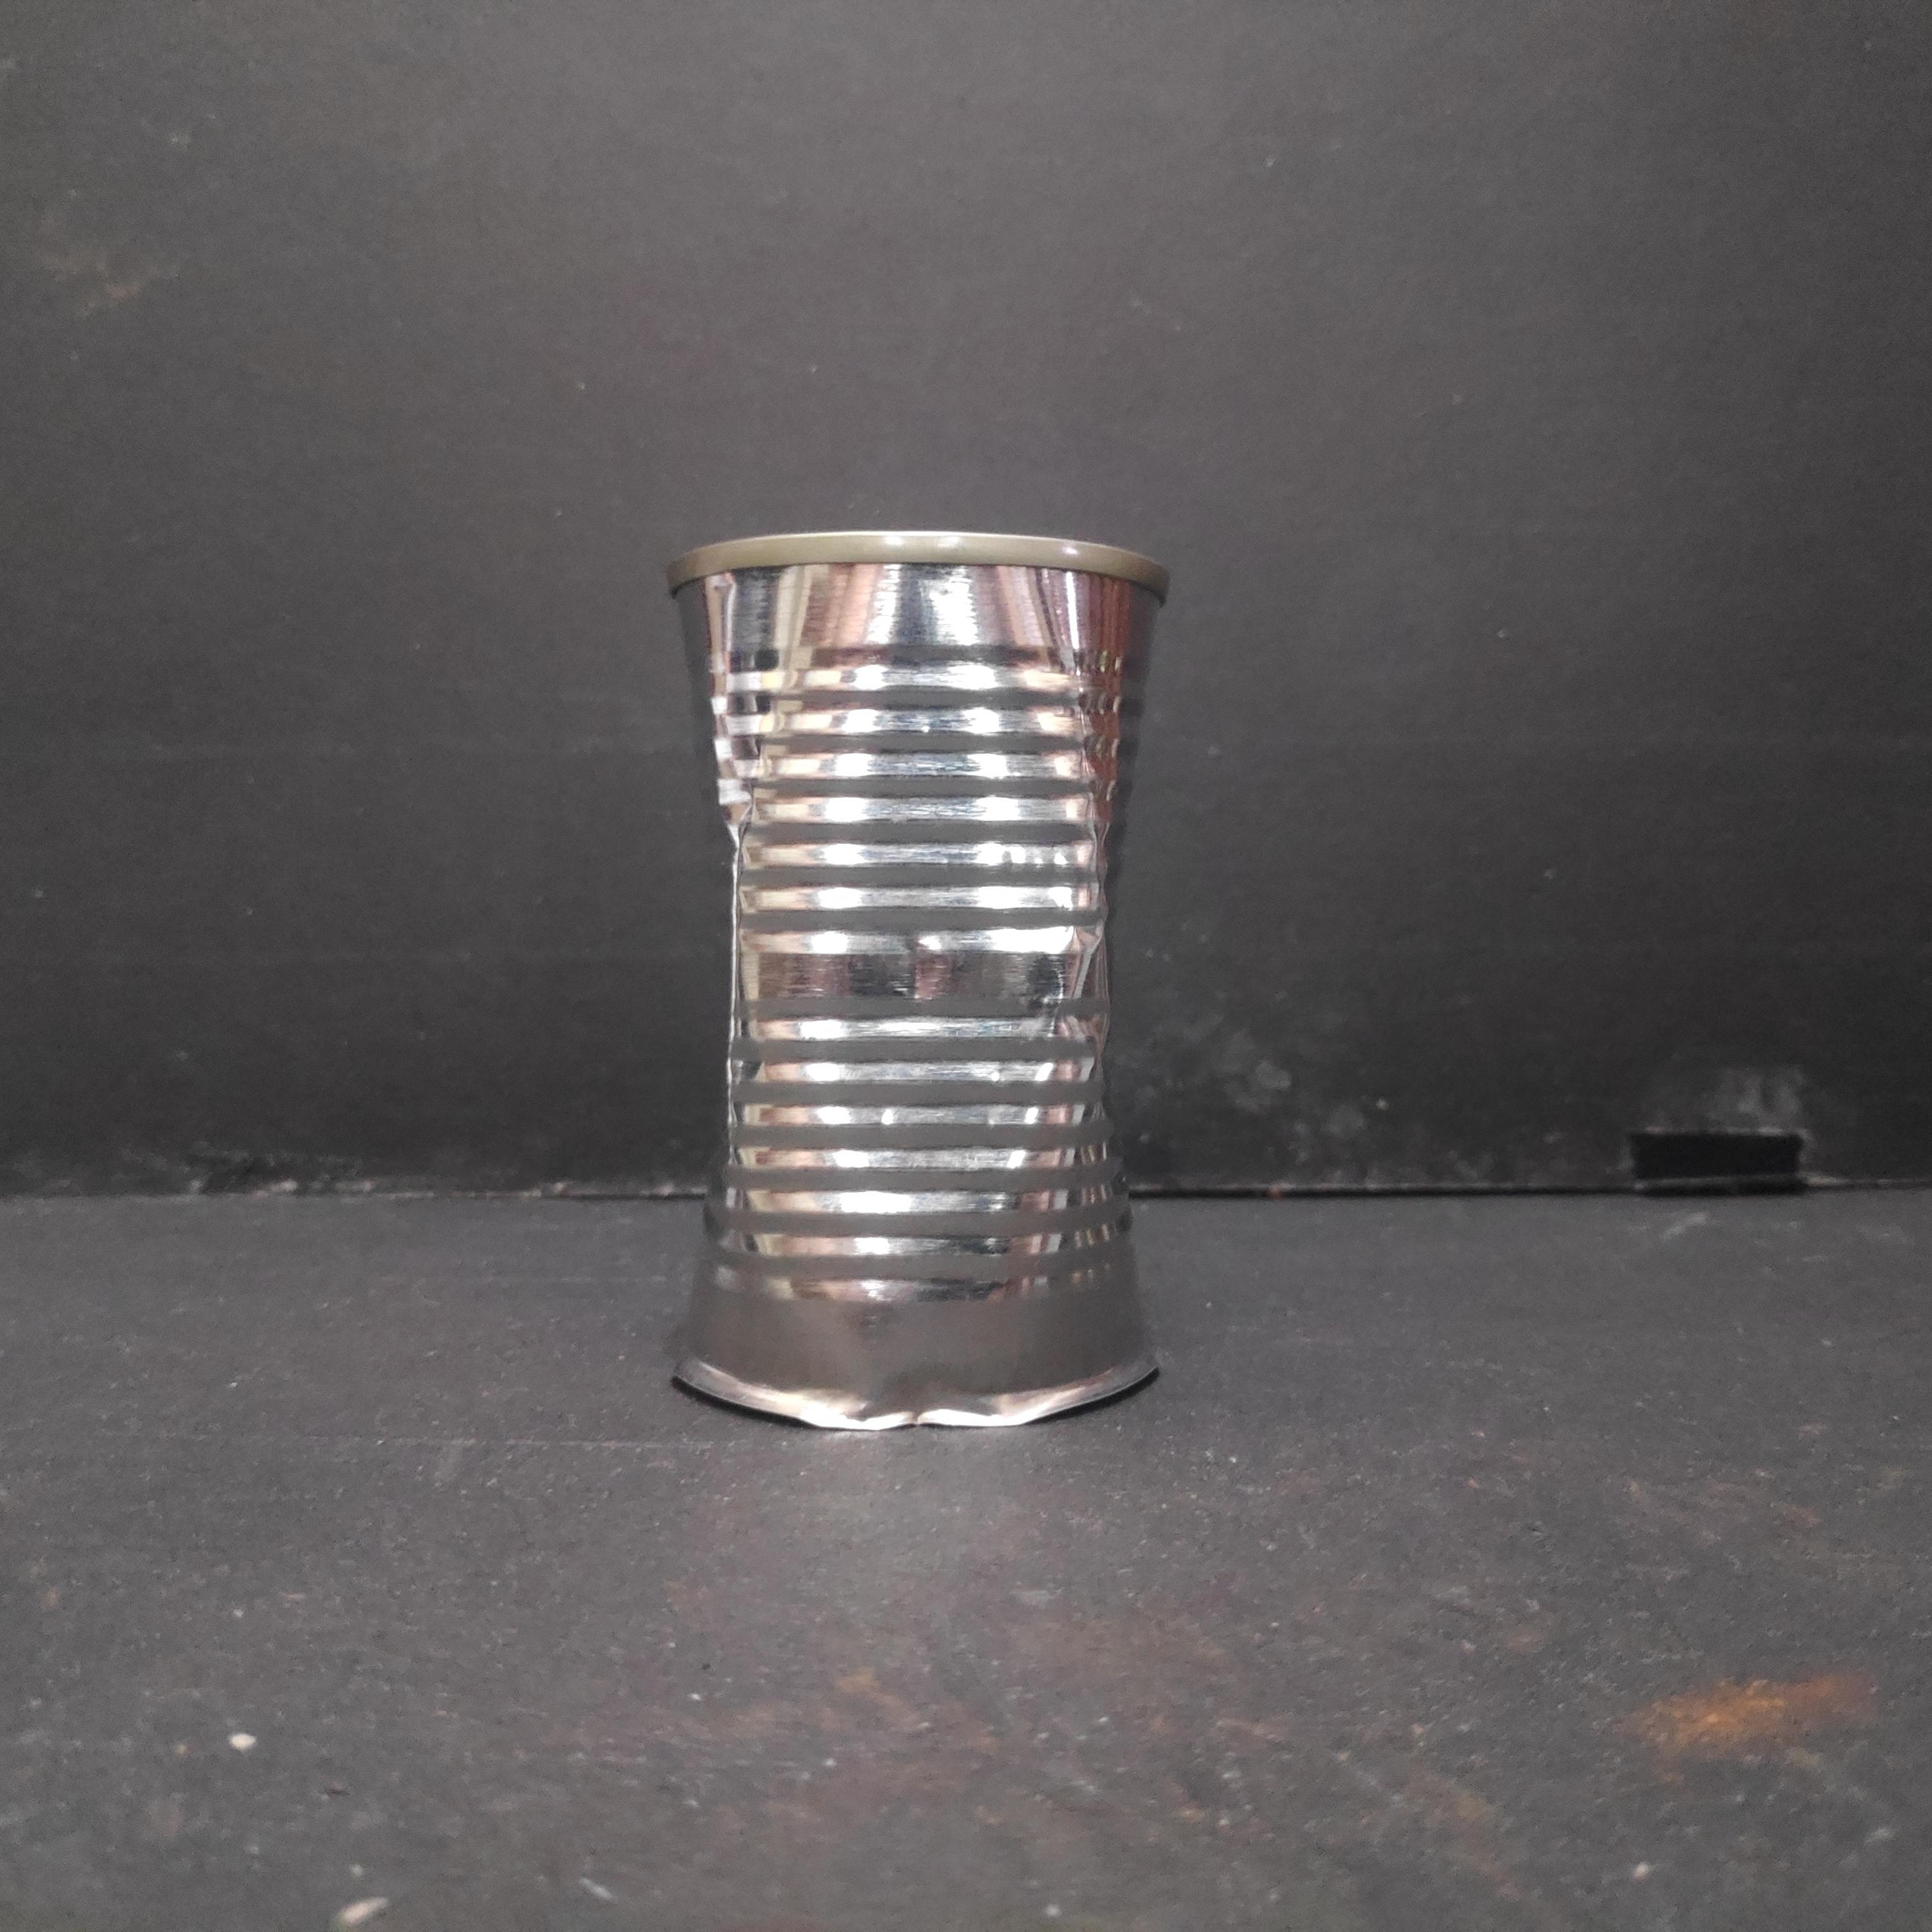Minor Defect: (663, 515, 1179, 1445)
